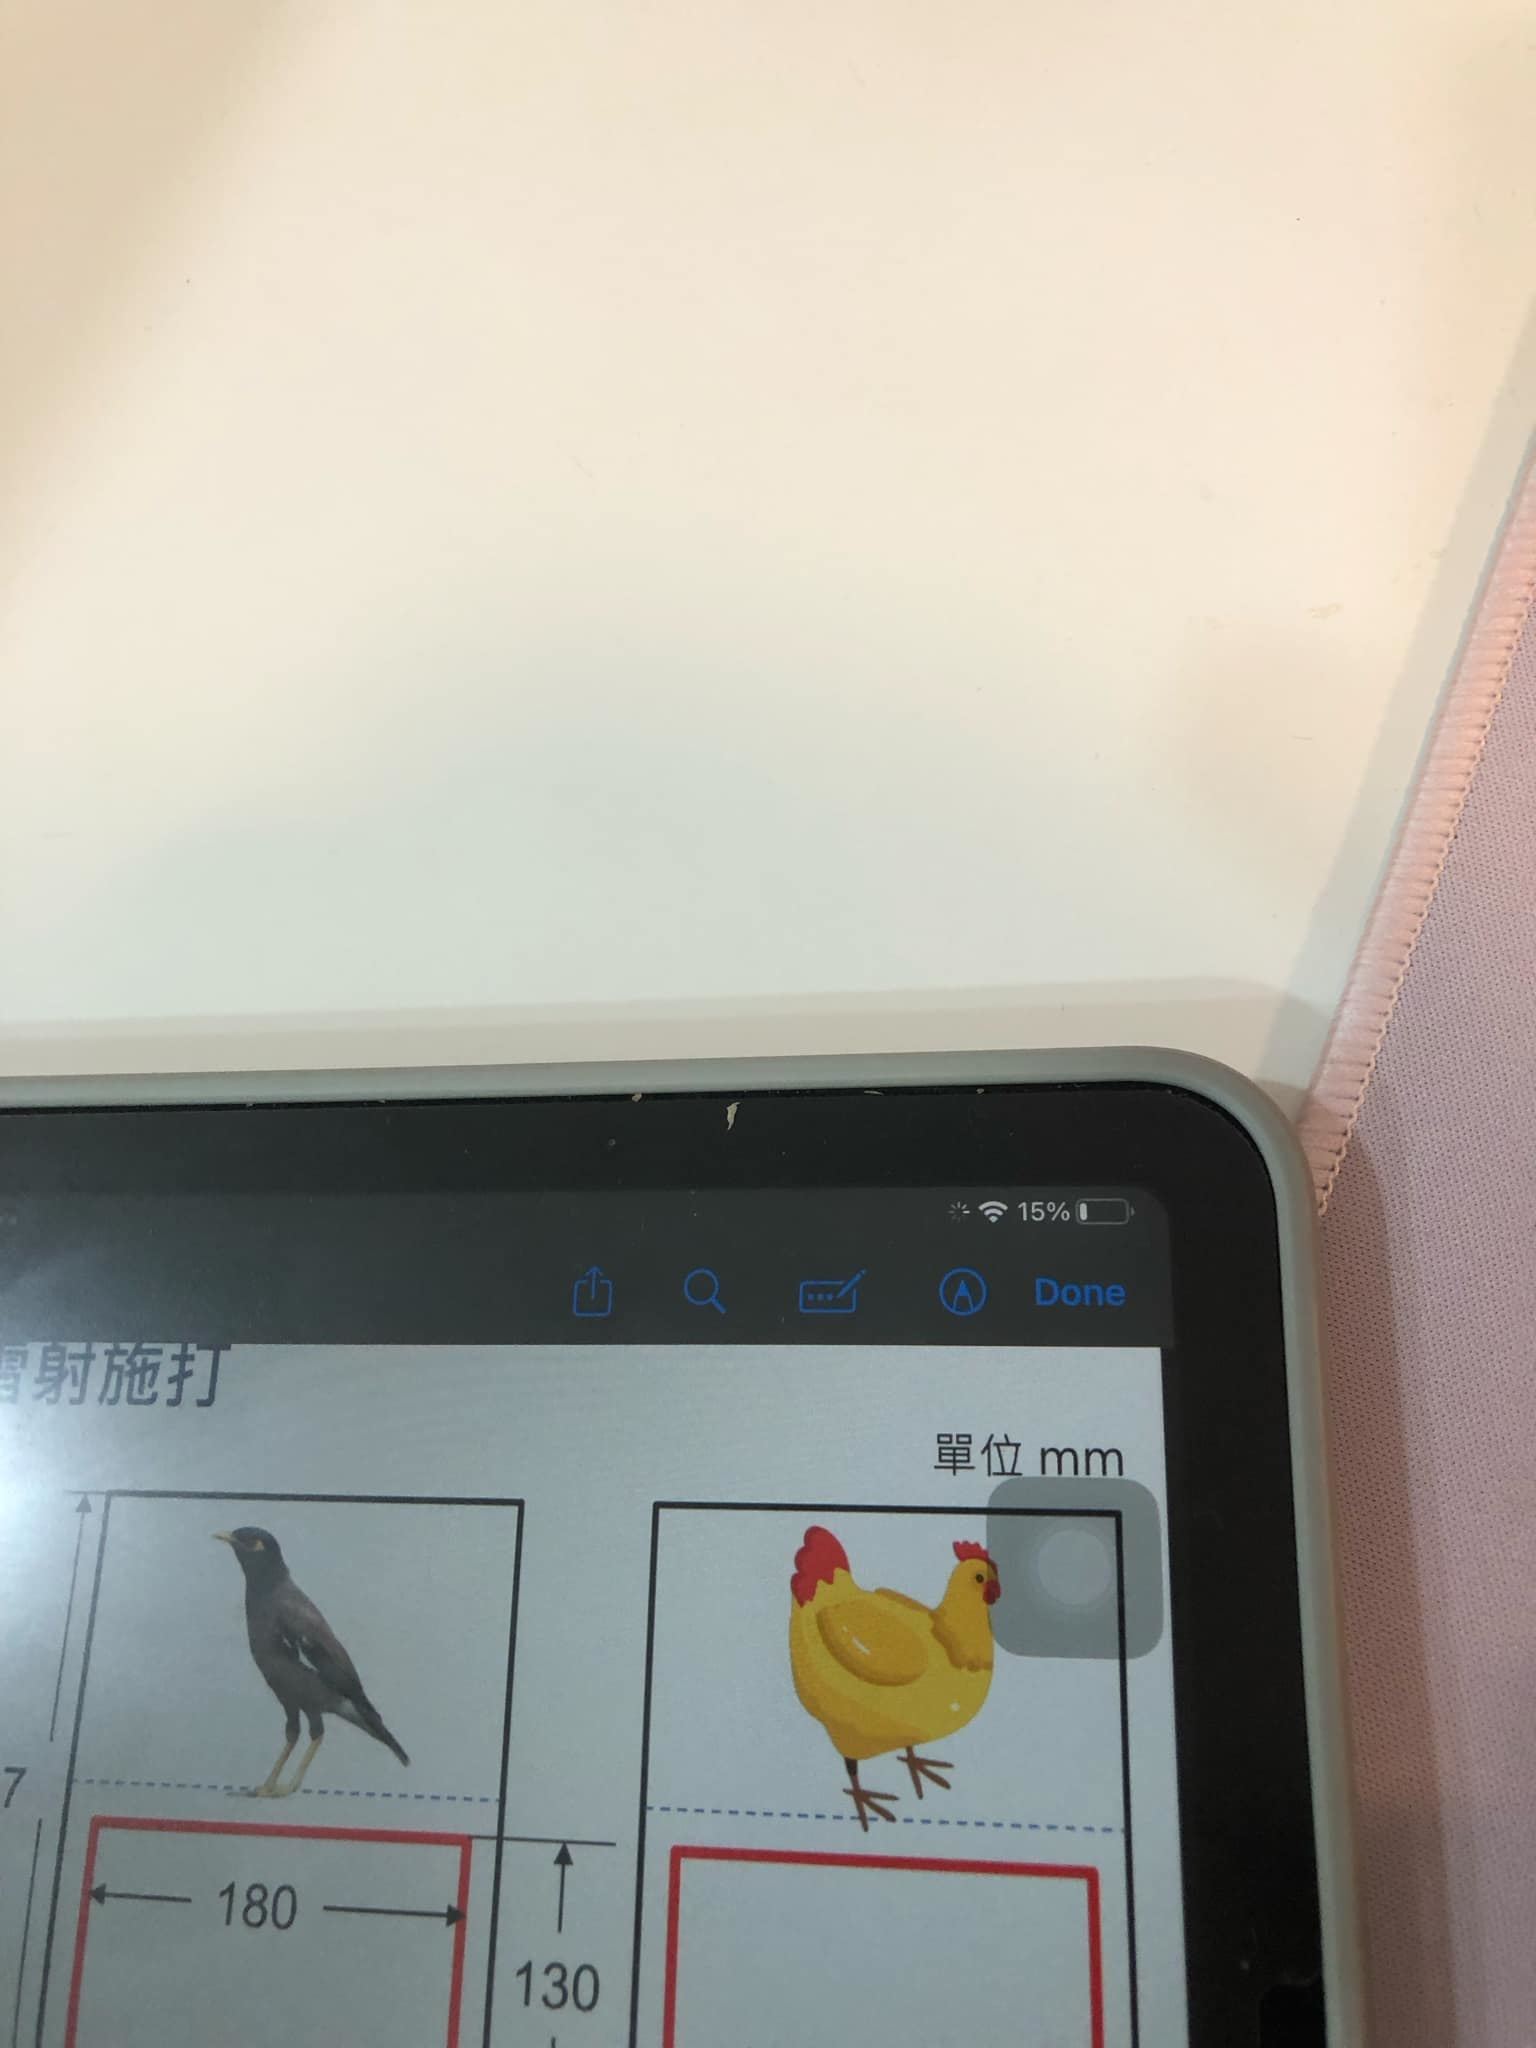chicken: (779, 1521, 1034, 1824)
starling: (184, 1521, 416, 1787)
